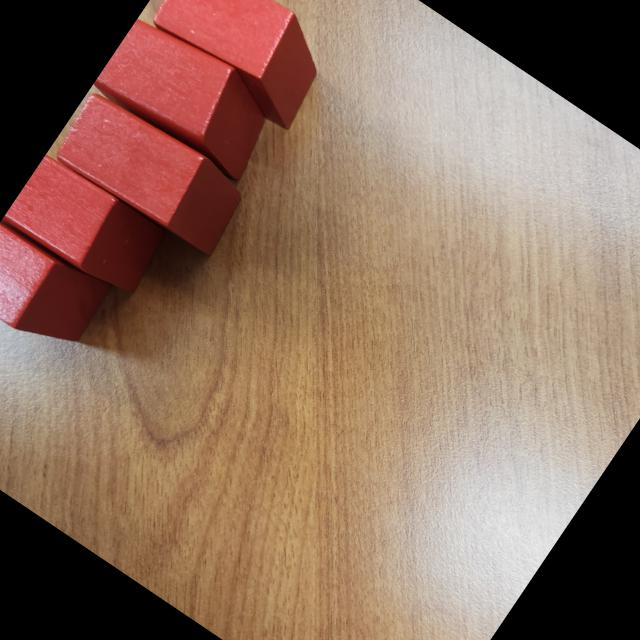red: (49, 84, 257, 262), (91, 8, 293, 188), (133, 0, 345, 135), (2, 152, 174, 304), (0, 219, 109, 361)
